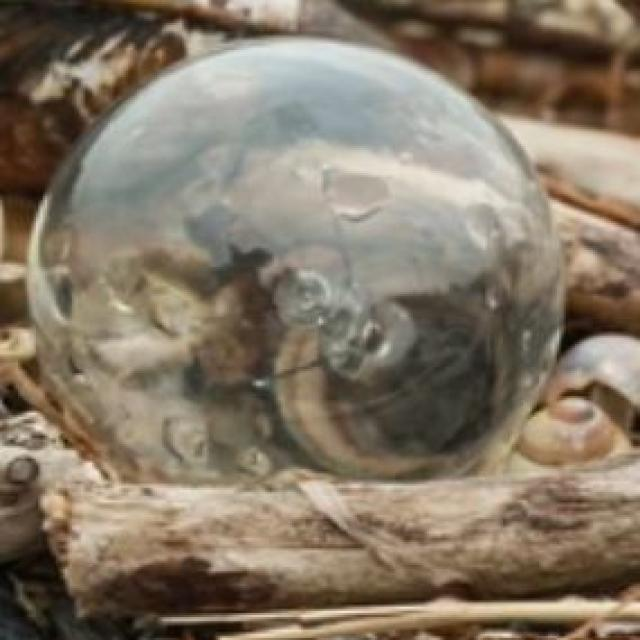electronic: (23, 33, 568, 486)
